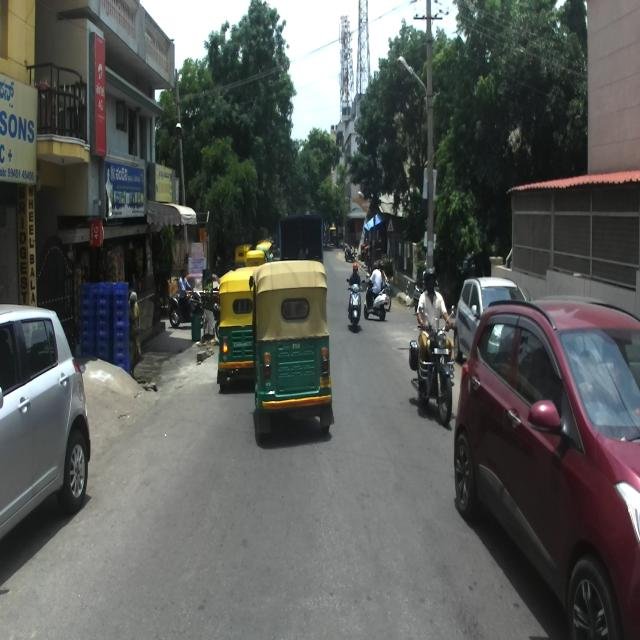auto ahead at: (249, 262, 336, 436), (216, 271, 253, 389)
car ahead at: (458, 297, 640, 640), (0, 299, 94, 514)
motorcycle ahead at: (411, 326, 455, 426)
